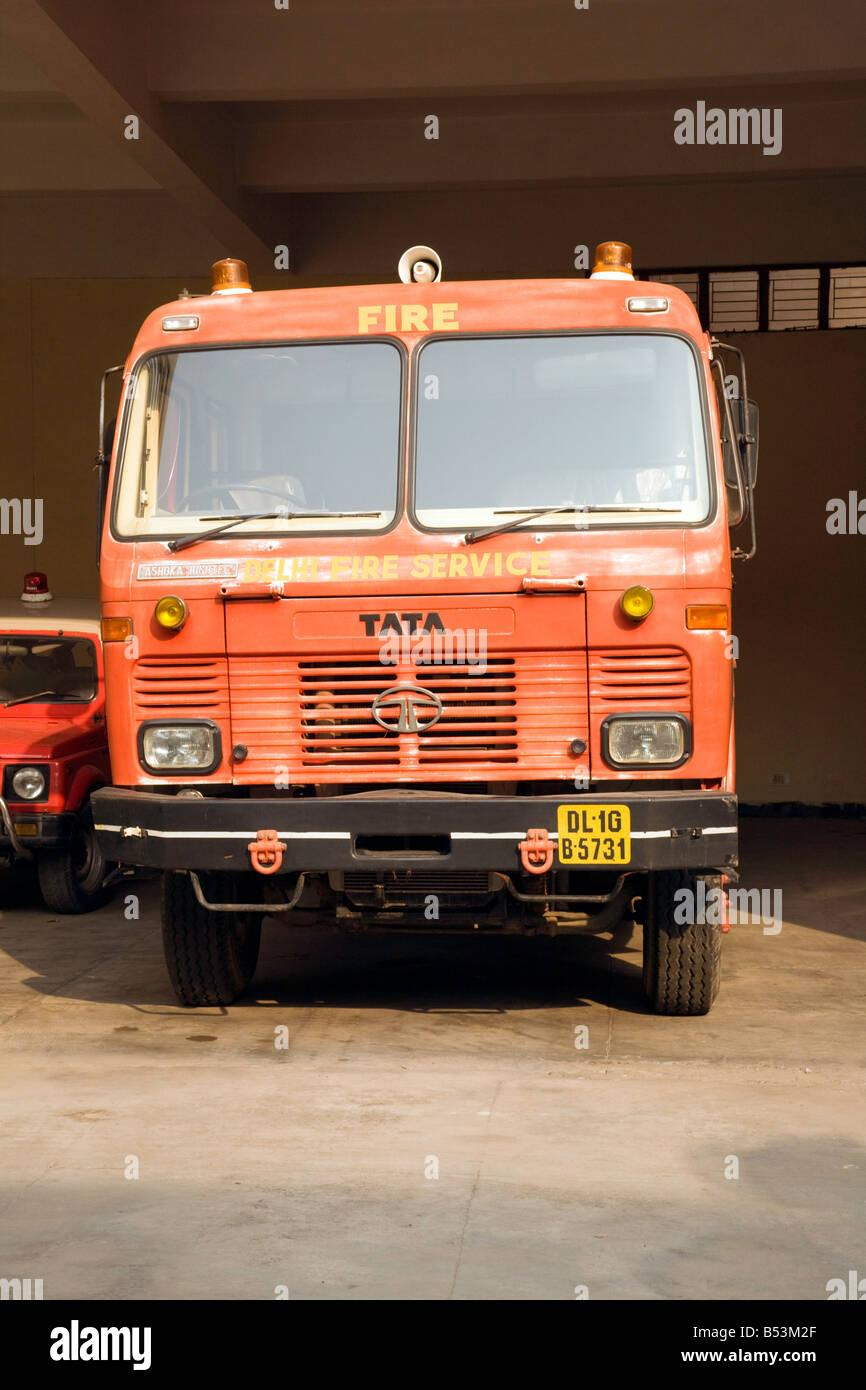Fire-engine: (98, 236, 772, 1037)
